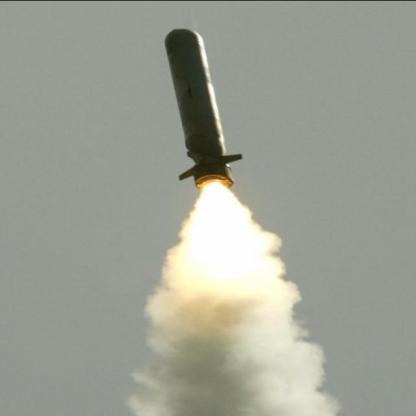MIL_TBM: (162, 25, 233, 199)
